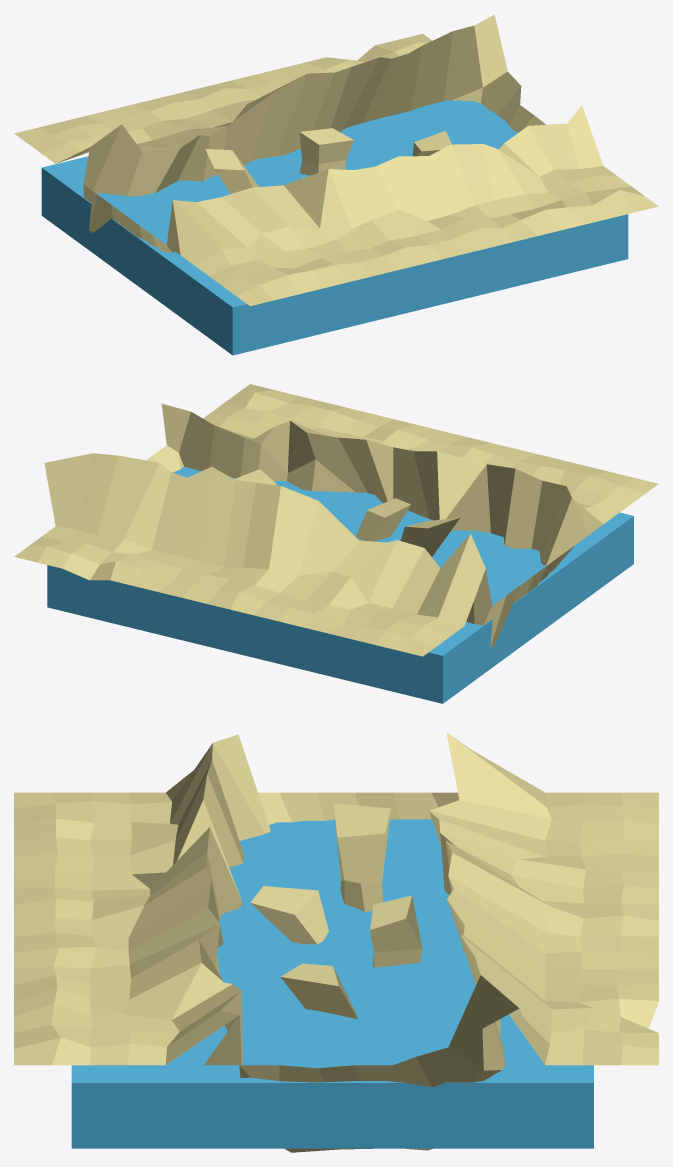
File: Piece 1.glb
3 views of the same model, one above another, from view 1: azimuth 30°, elevation 25°; view 2: azimuth 150°, elevation 25°; view 3: azimuth 270°, elevation 25° (orthographic). The views are drawn at different scales.
Parts seen in each view (by area): view 1: Plane, Water; view 2: Plane, Water; view 3: Plane, Water.
Part boxes in pixels (x1,y1,x2,y2): Plane: (14, 14, 658, 306); Water: (41, 100, 628, 355); Plane: (14, 384, 658, 656); Water: (47, 466, 633, 703); Plane: (14, 732, 658, 1152); Water: (71, 819, 593, 1148).
Size of what is drawn, in the model's own units: 16.81 by 5.9 by 16.
